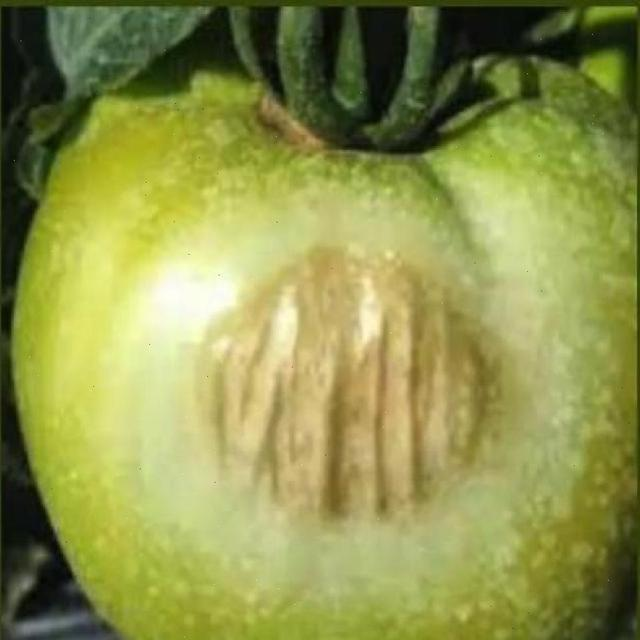Sunscald Fruit: (116, 137, 351, 344)
